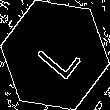L_NW: (27, 27, 83, 83)
